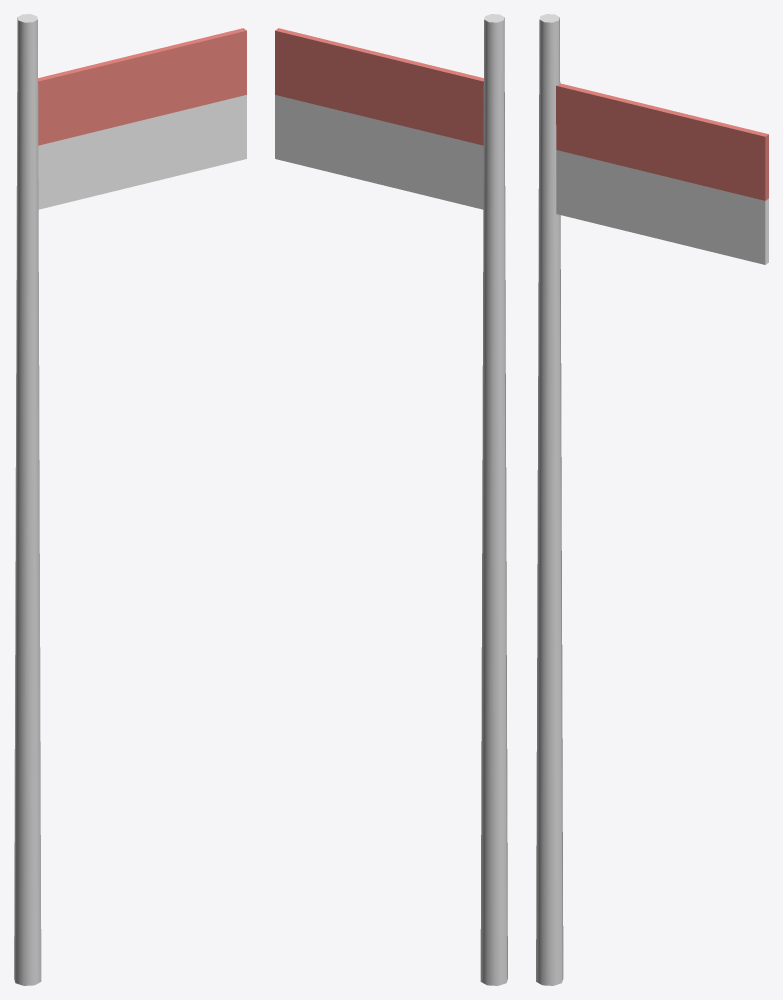
File: bendera.glb
3 renders of one model, left to right at view 1: azimuth 30°, elevation 25°; view 2: azimuth 150°, elevation 25°; view 3: azimuth 330°, elevation 25°, orthographic.
Visible parts, largest first — view 1: bendera; view 2: bendera; view 3: bendera.
Boxes of the visible parts, box(x1,y1,x2,y2) form: bendera: box(14, 14, 246, 985); bendera: box(275, 14, 507, 985); bendera: box(536, 14, 768, 985).
Bounding box in the file's own units: 0.75 × 3 × 0.08.
